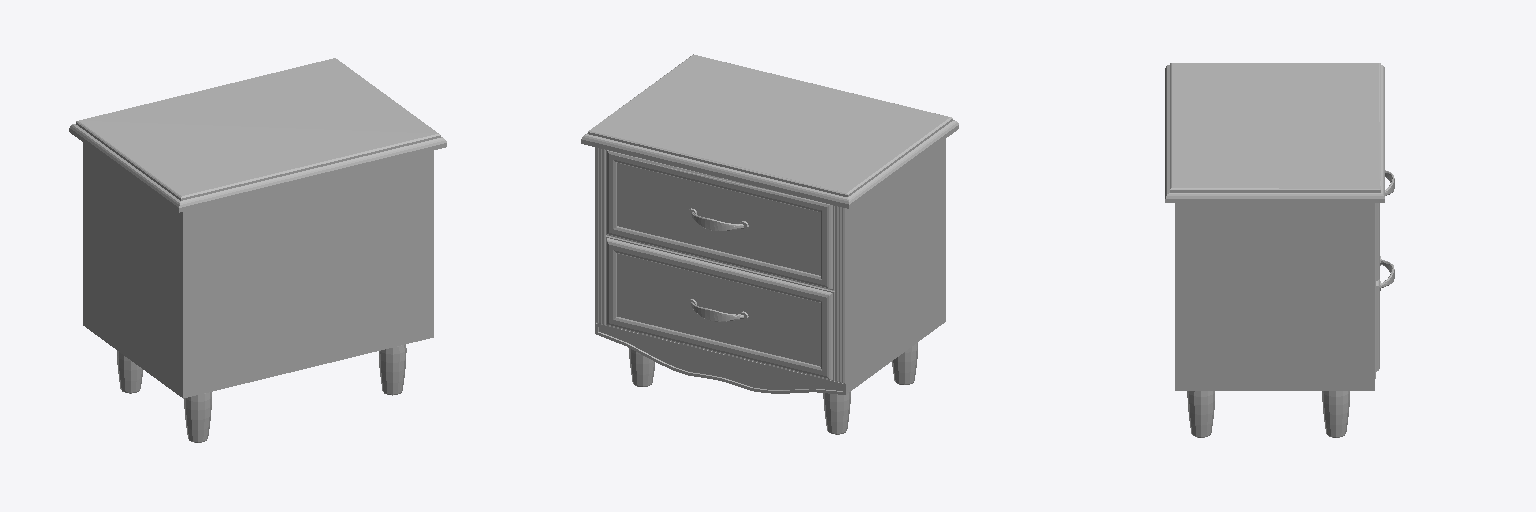
File: dresser01.obj
3 renders of one model, left to right at view 1: azimuth 30°, elevation 25°; view 2: azimuth 150°, elevation 25°; view 3: azimuth 270°, elevation 25°, orthographic.
Visible parts, largest first — view 1: mesh; view 2: mesh; view 3: mesh.
Boxes of the visible parts, x1=… form: mesh: x1=69, y1=58, x2=446, y2=442; mesh: x1=581, y1=54, x2=958, y2=434; mesh: x1=1165, y1=63, x2=1394, y2=437.
Size of the model in its own units: 43.53 by 40.54 by 32.23.